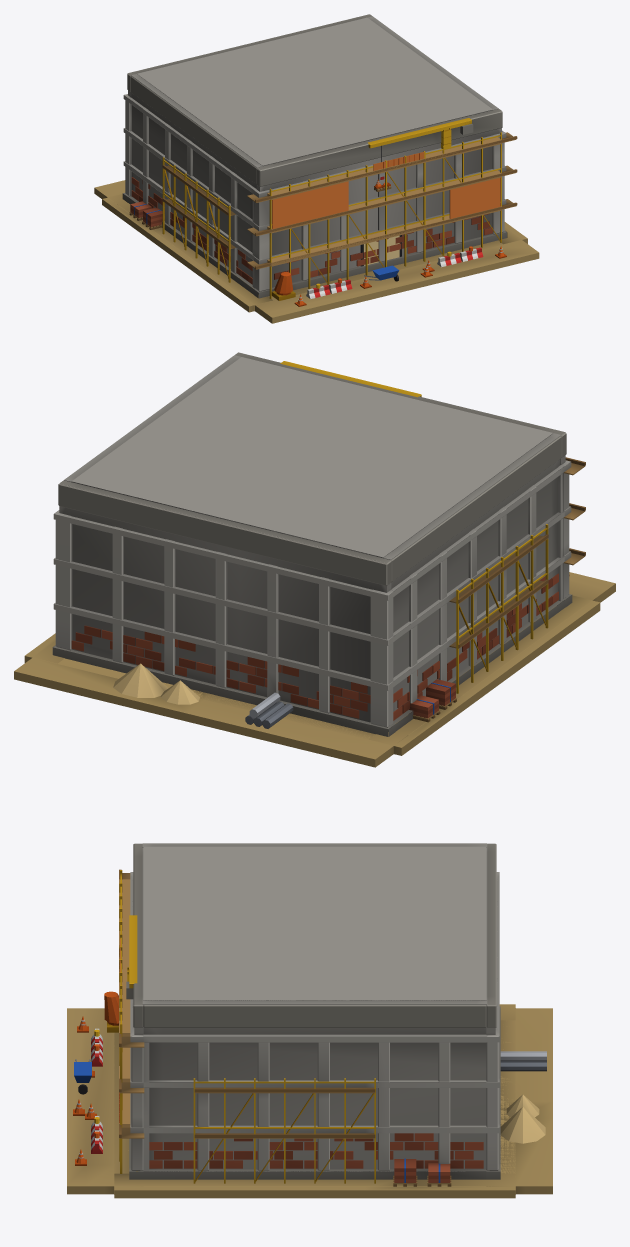
Rendered from PanicConeFloor.fbx.
3 views of the same model, one above another, from view 1: azimuth 30°, elevation 25°; view 2: azimuth 150°, elevation 25°; view 3: azimuth 270°, elevation 25° (orthographic). The views are drawn at different scales.
Visible parts, largest first — view 1: PC_S_All, PC_F_Rings, PC_F_Smooth, PC_F_Quiet, PC_F_Props, PC_F_Glass; view 2: PC_F_Rings, PC_S_All, PC_F_Smooth, PC_F_Quiet, PC_F_Props; view 3: PC_S_All, PC_F_Rings, PC_F_Smooth, PC_F_Quiet, PC_F_Props.
Part boxes in pixels (<box>): PC_S_All: <box>108,17,501,310</box>; PC_F_Rings: <box>124,16,505,291</box>; PC_F_Smooth: <box>94,14,539,323</box>; PC_F_Quiet: <box>95,76,538,317</box>; PC_F_Props: <box>271,124,481,300</box>; PC_F_Glass: <box>316,235,472,288</box>; PC_F_Rings: <box>54,355,570,727</box>; PC_S_All: <box>32,357,582,753</box>; PC_F_Smooth: <box>14,352,615,767</box>; PC_F_Quiet: <box>14,436,615,759</box>; PC_F_Props: <box>113,663,270,728</box>; PC_S_All: <box>114,846,515,1194</box>; PC_F_Rings: <box>130,843,499,1171</box>; PC_F_Smooth: <box>67,843,552,1198</box>; PC_F_Quiet: <box>67,1004,552,1190</box>; PC_F_Props: <box>74,981,545,1153</box>.
Size of the model in its own units: 60 by 20 by 60.
